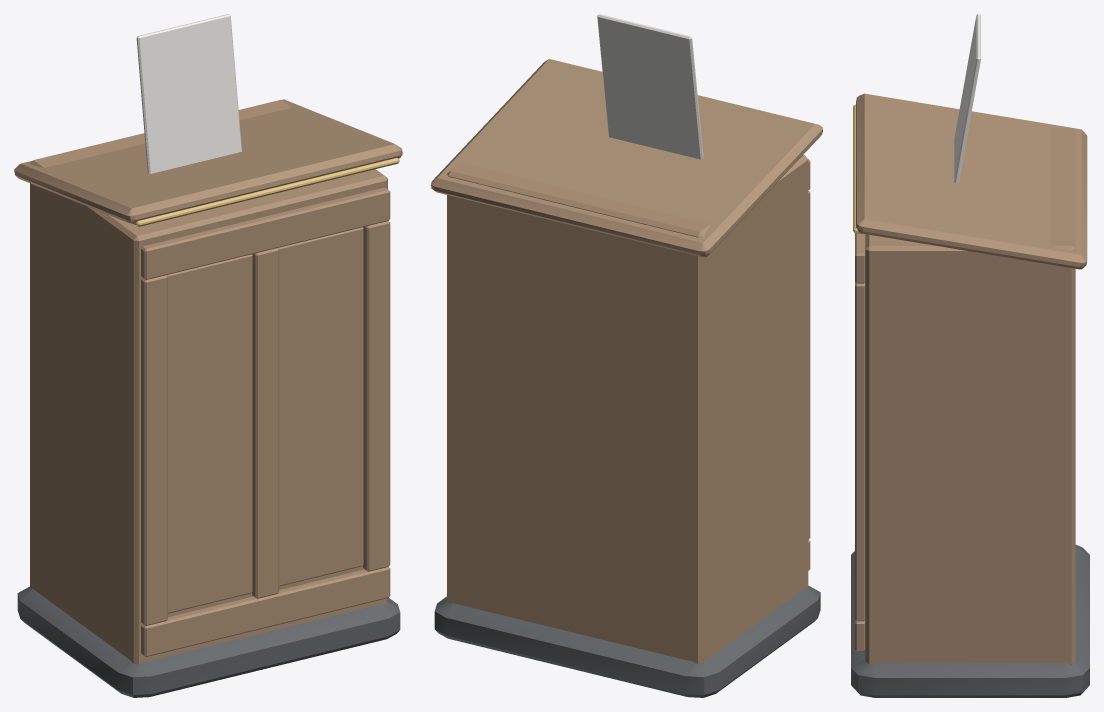
The model's file is restaurant-kitchen-and-dining-host-stand-385dfdf6__16511.glb.
3 views of the same model, side by side, from view 1: azimuth 30°, elevation 25°; view 2: azimuth 150°, elevation 25°; view 3: azimuth 270°, elevation 25° (orthographic). The views are drawn at different scales.
Parts seen in each view (by area): view 1: host-stand; view 2: host-stand; view 3: host-stand.
Boxes of the visible parts, bbox=[...] form: host-stand: bbox=[14, 14, 402, 697]; host-stand: bbox=[431, 14, 822, 697]; host-stand: bbox=[851, 14, 1089, 697].
Size of the model in its own units: 0.66 by 1.36 by 0.5.
